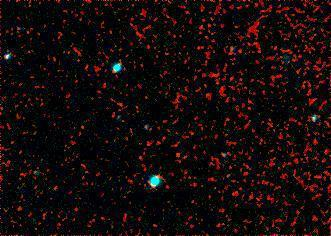star: (210, 160, 240, 190)
